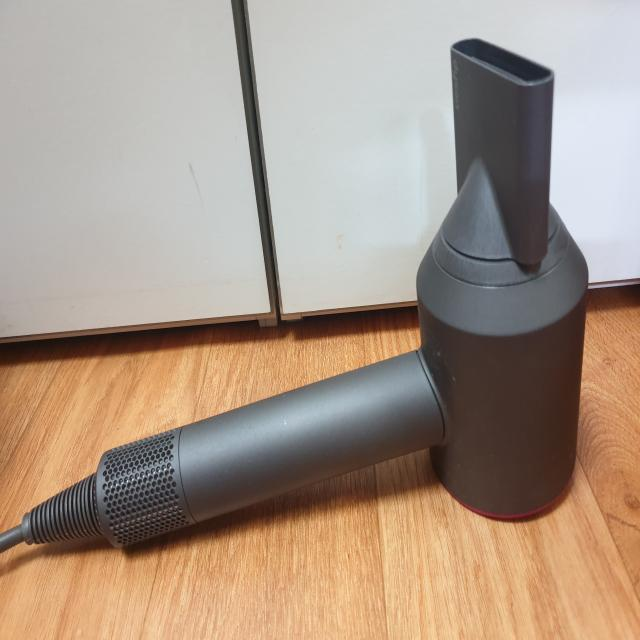dryer: (0, 36, 591, 554)
